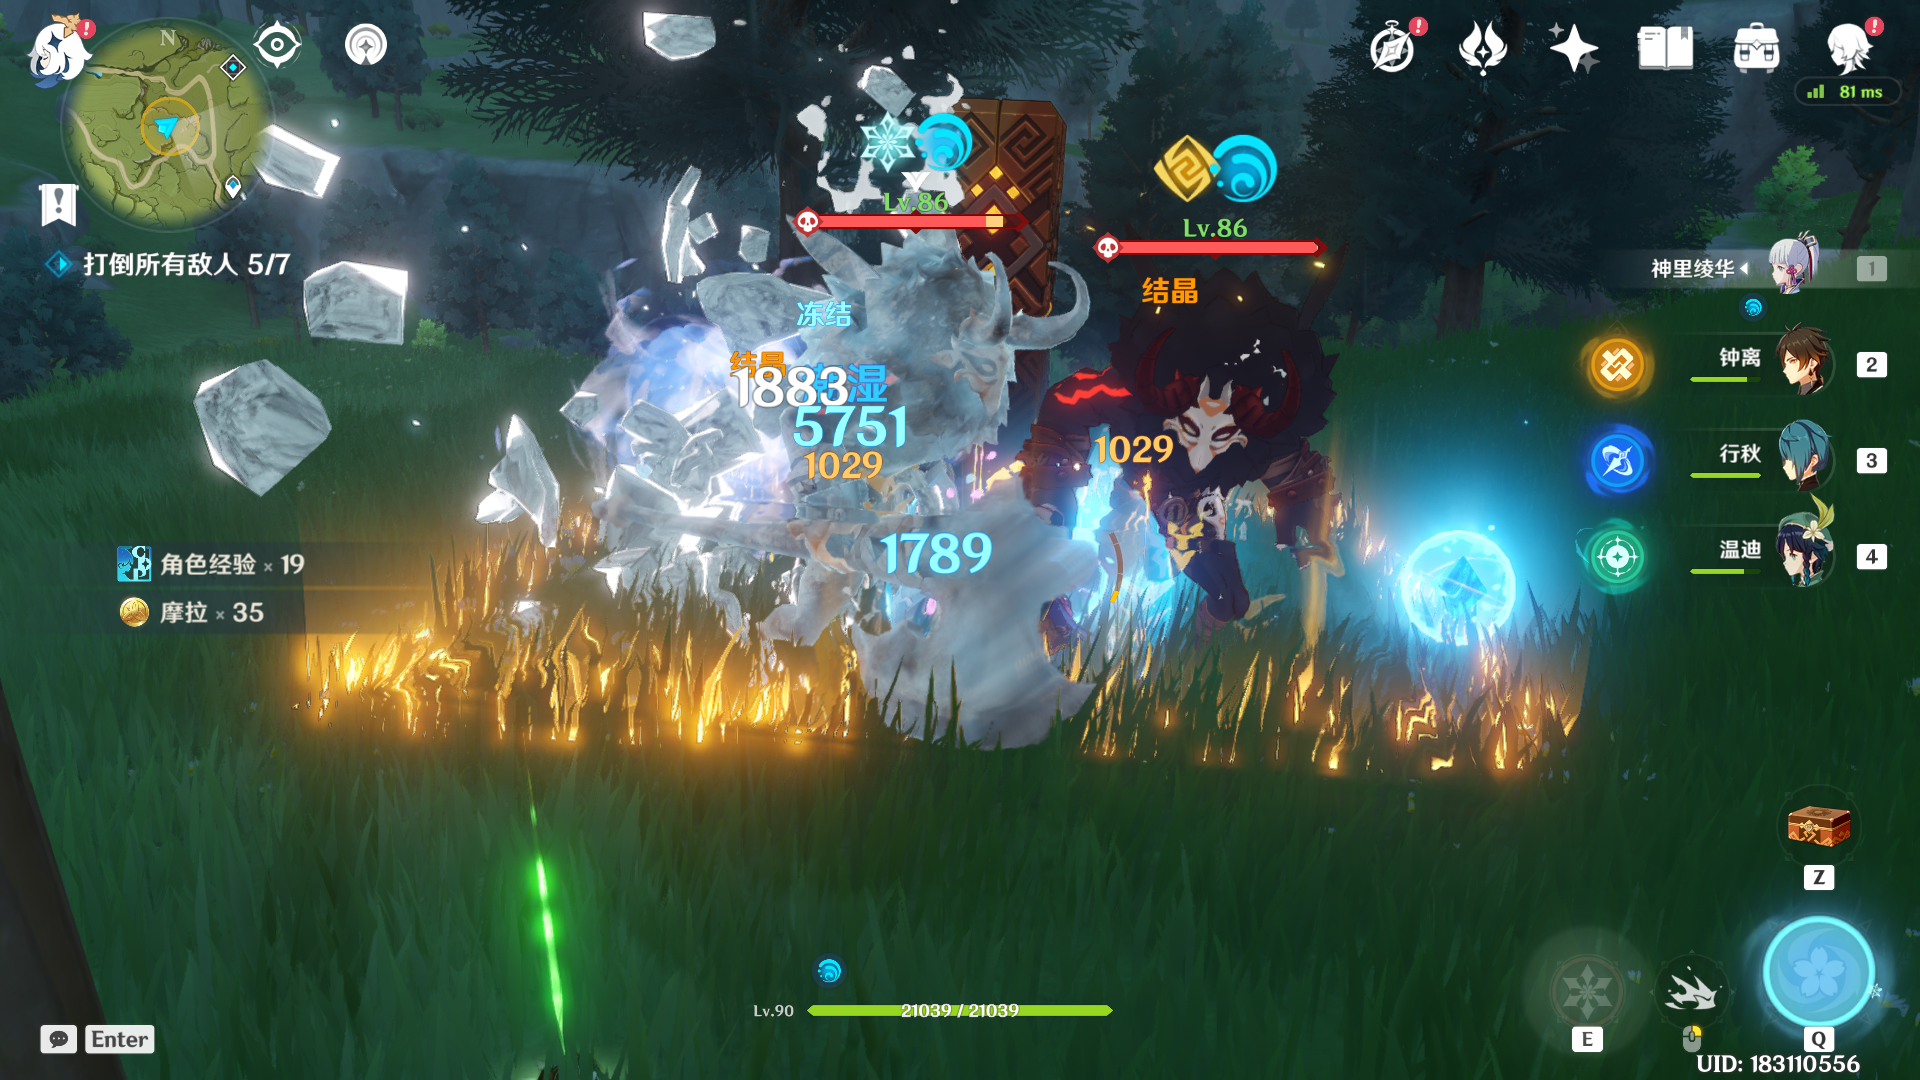bighili: (1001, 199, 1398, 721)
